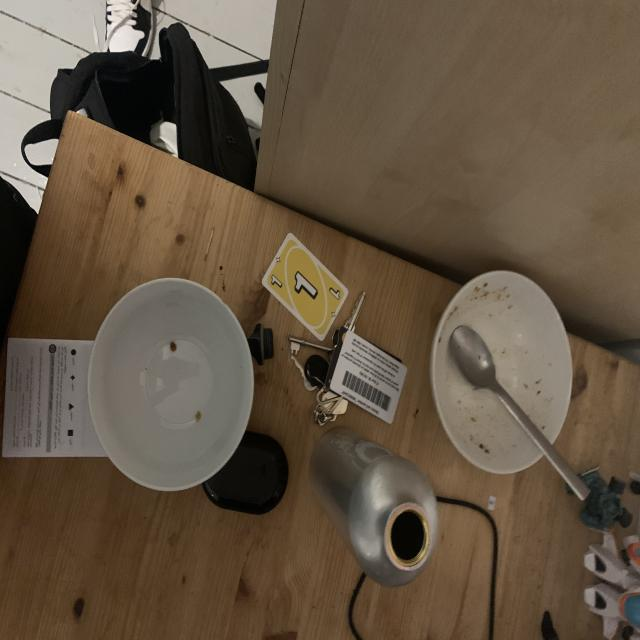lyellow-1: (268, 272, 286, 291)
